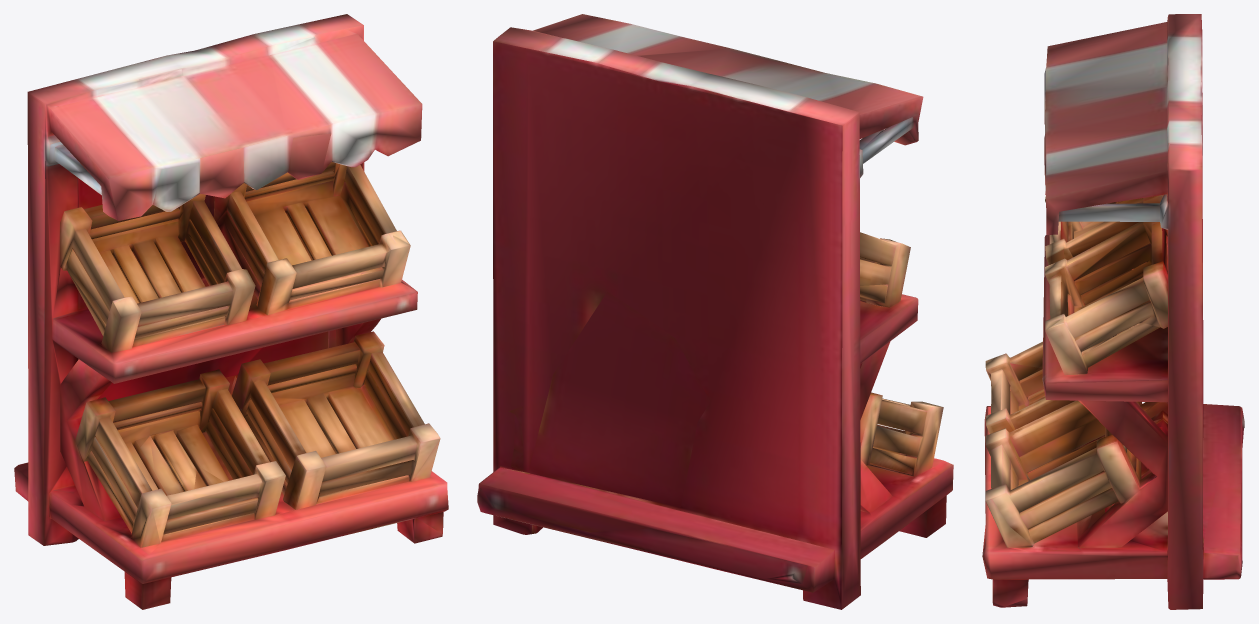
File: guoshujia-2.glb
3 views of the same model, side by side, from view 1: azimuth 30°, elevation 25°; view 2: azimuth 150°, elevation 25°; view 3: azimuth 270°, elevation 25° (orthographic). The views are drawn at different scales.
Parts seen in each view (by area): view 1: node_0; view 2: node_0; view 3: node_0.
Boxes of the visible parts, x1,y1,x2,y2 form: node_0: [14, 14, 448, 609]; node_0: [477, 14, 953, 609]; node_0: [982, 14, 1244, 609].
Size of the model in its own units: 0.6895 by 0.916 by 0.4883.
Materials: 1 (1 with a texture image).
